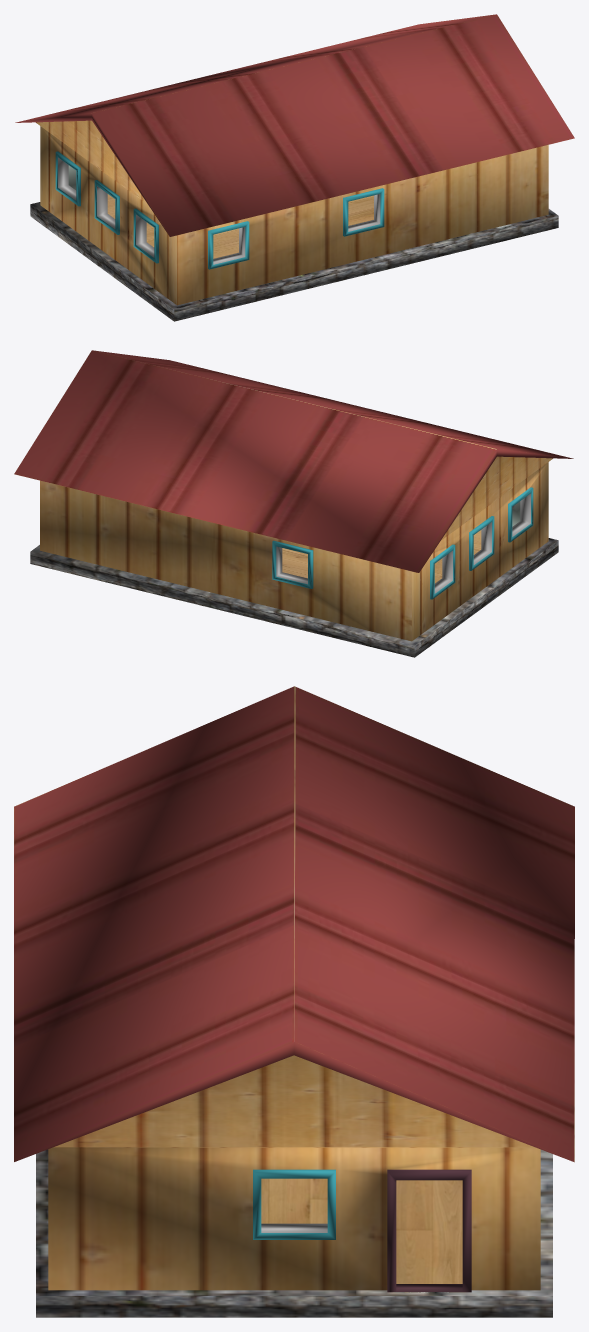
3 renders of one model, top to bottom at view 1: azimuth 30°, elevation 25°; view 2: azimuth 150°, elevation 25°; view 3: azimuth 270°, elevation 25°, orthographic. The views are drawn at different scales.
Visible parts, largest first — view 1: 0roof_Cube.003, 0frontwall_Cube.009, 0base_Cube.006, 0floor_Plane.006; view 2: 0roof_Cube.003, 0frontwall_Cube.009, 0base_Cube.006, 0floor_Plane.006; view 3: 0roof_Cube.003, 0frontwall_Cube.009, 0base_Cube.006, 0floor_Plane.006.
Boxes of the visible parts, <box> form: 0roof_Cube.003: <box>15,14,574,236</box>; 0frontwall_Cube.009: <box>40,126,548,305</box>; 0base_Cube.006: <box>30,202,558,321</box>; 0floor_Plane.006: <box>107,194,373,258</box>; 0roof_Cube.003: <box>14,350,573,572</box>; 0frontwall_Cube.009: <box>40,462,548,641</box>; 0base_Cube.006: <box>30,538,558,657</box>; 0floor_Plane.006: <box>282,530,481,583</box>; 0roof_Cube.003: <box>14,686,574,1162</box>; 0frontwall_Cube.009: <box>48,1147,540,1292</box>; 0base_Cube.006: <box>36,1149,552,1317</box>; 0floor_Plane.006: <box>261,1178,462,1283</box>.
Bounding box in the file's own units: 12 × 4.48 × 8.
